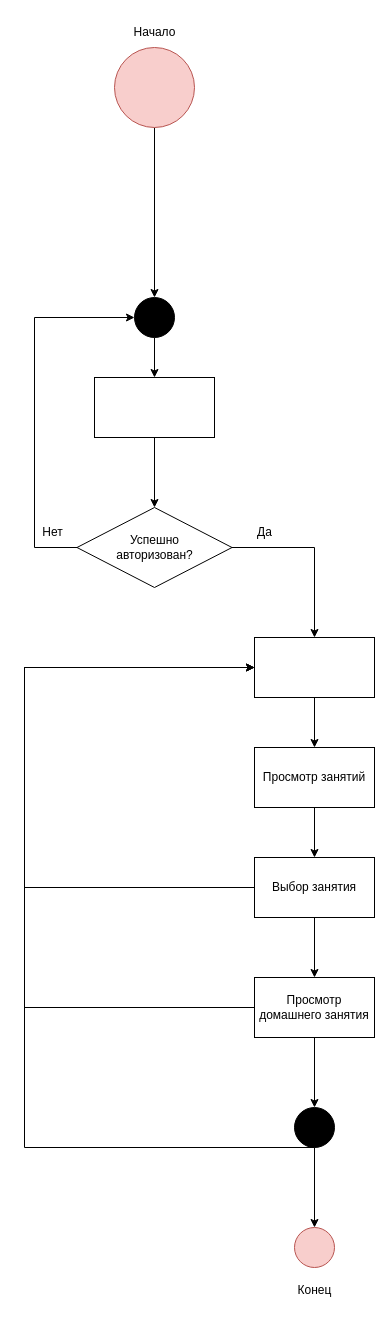
The diagram is 392 pixels wide and 1322 high, and some of its shapes have lost their labels. The centre of each missing label's shape, as x and y in pixels:
Авторизация: [154,407]
Окно "Расписание занятий": [314,667]
